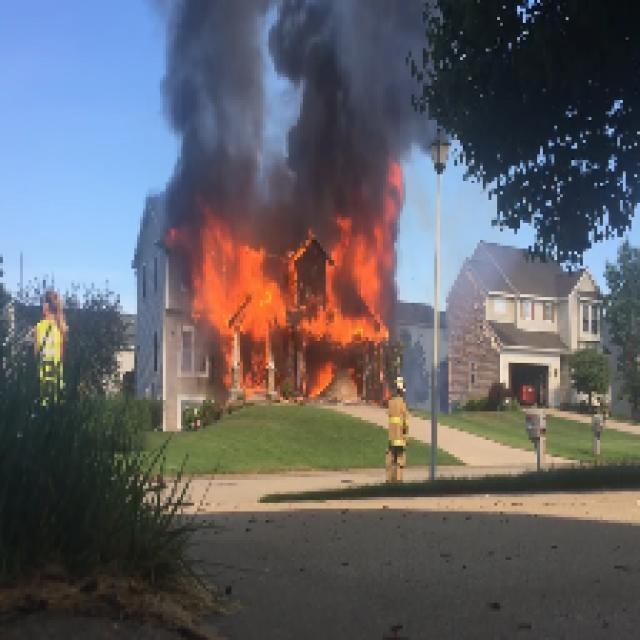Fire: (186, 228, 291, 334), (326, 206, 394, 334)
Smoke: (157, 2, 274, 198), (277, 2, 417, 148)
